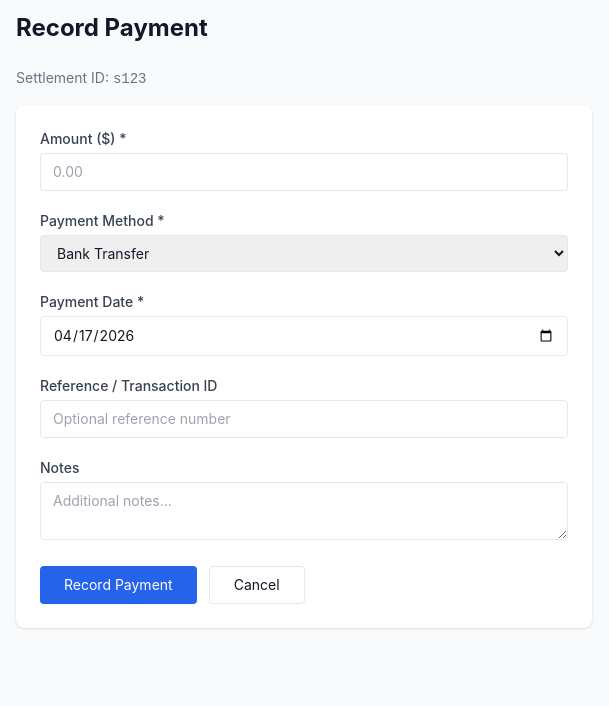
it: PaymentRecordPage › shows server error on failure
Type "100" into the number field with placeholder "0.00" at (304, 172), box [40,153,568,191]
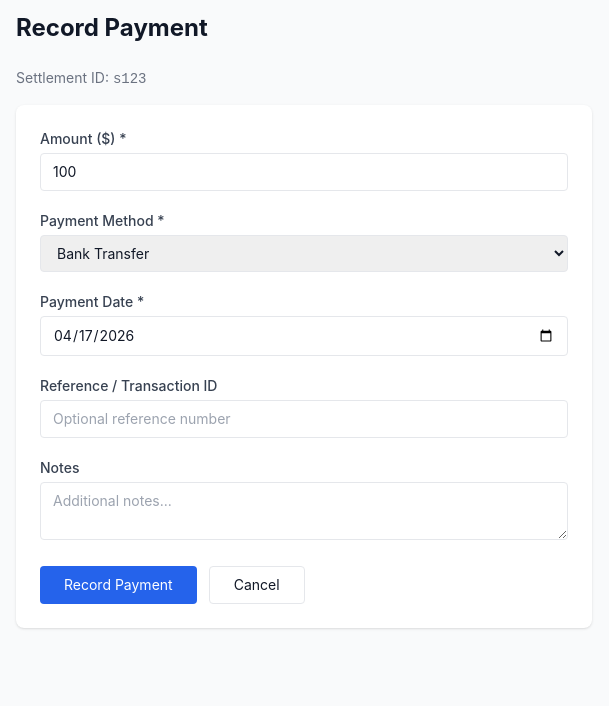
Click the button "Record Payment" at (118, 585), box [40,566,197,604]
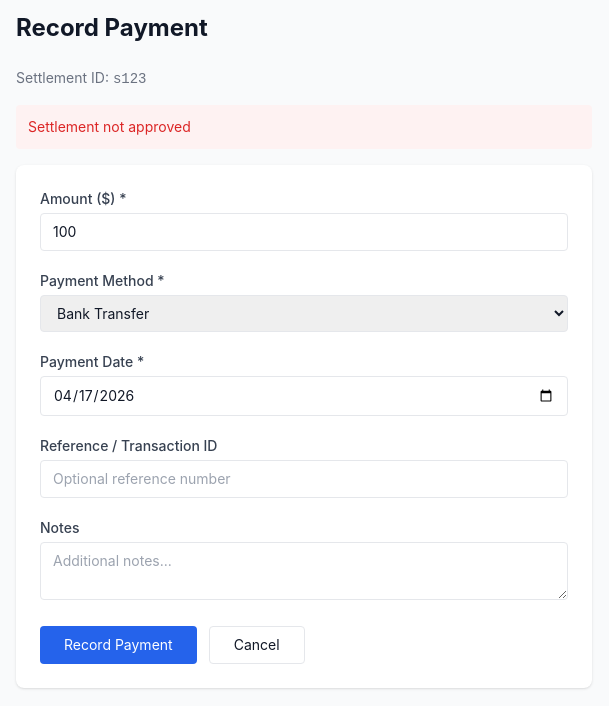
Now the text "Settlement not approved" is shown, box [16,105,592,149]
